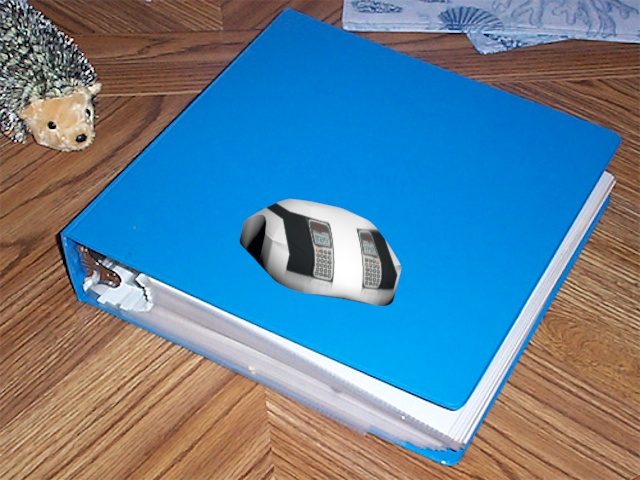mouse: (233, 193, 408, 312)
